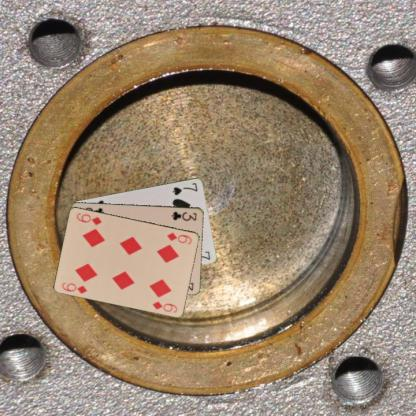3c: (169, 208, 198, 222)
6d: (165, 230, 193, 245), (60, 280, 89, 294)
7s: (170, 180, 199, 196)
